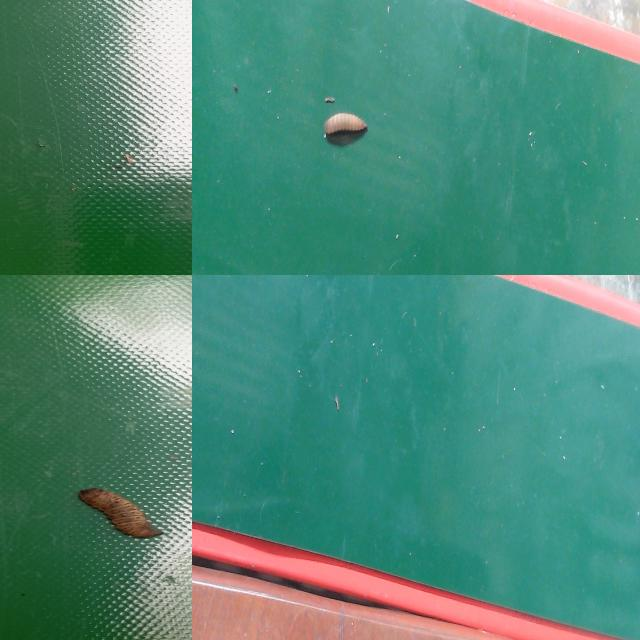Maggot: (77, 488, 157, 541), (324, 111, 369, 148)
